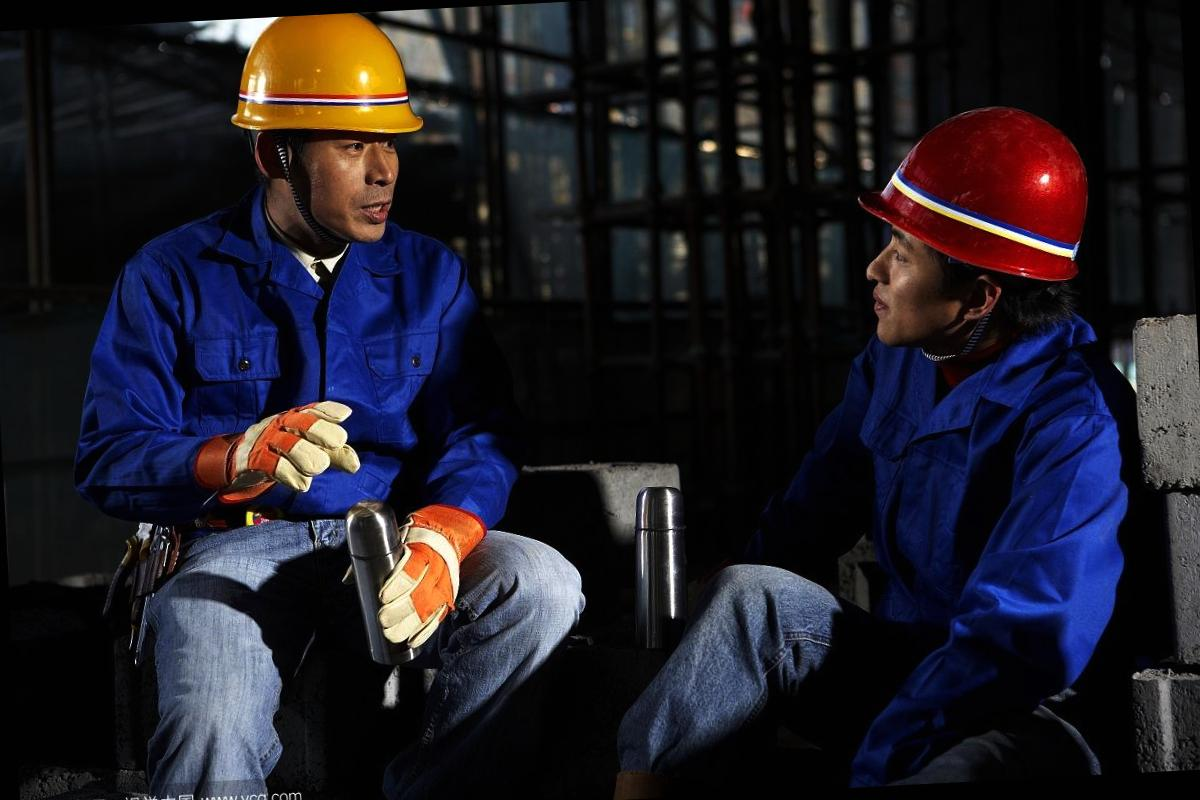helmet: (848, 89, 1100, 295), (214, 9, 434, 154)
no_vest: (128, 221, 491, 557), (829, 332, 1128, 704)
person: (53, 4, 591, 800), (748, 87, 1143, 786)
